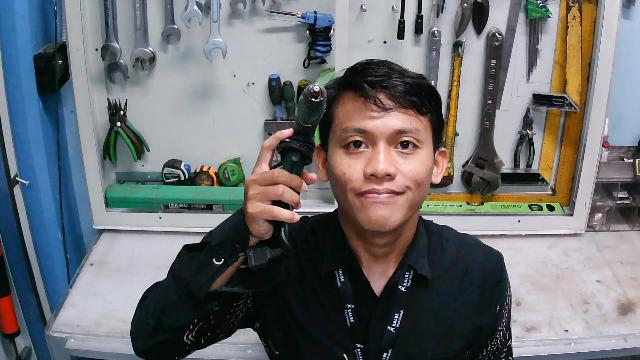gun_lem: (235, 81, 332, 275)
